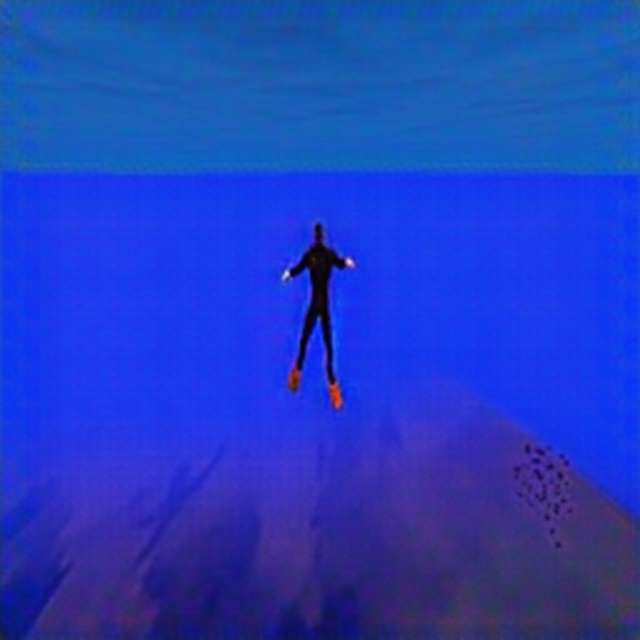diver: (279, 218, 357, 410)
